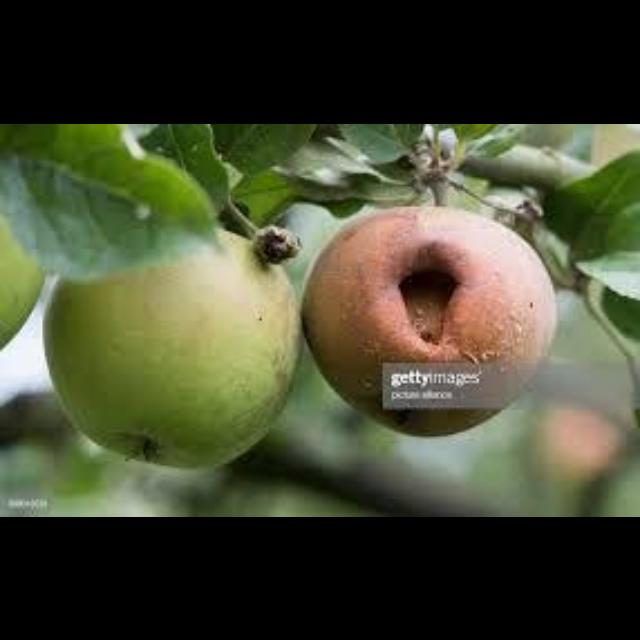apple: (45, 230, 300, 465), (302, 206, 555, 434)
pest: (372, 247, 477, 356)
